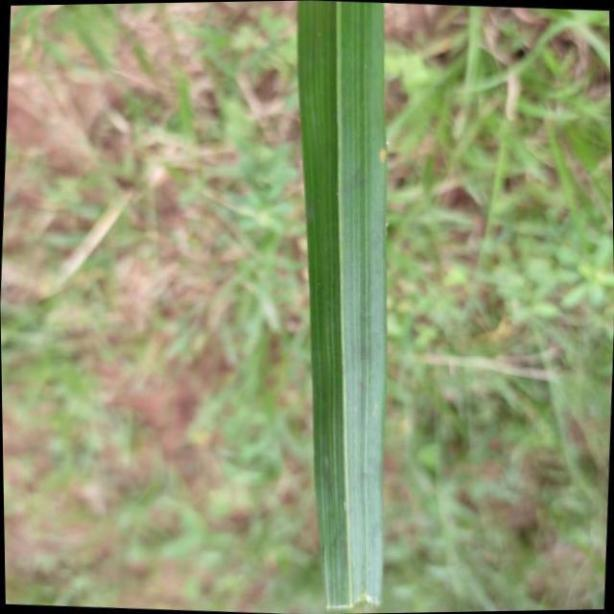Boron: (296, 0, 387, 612)
